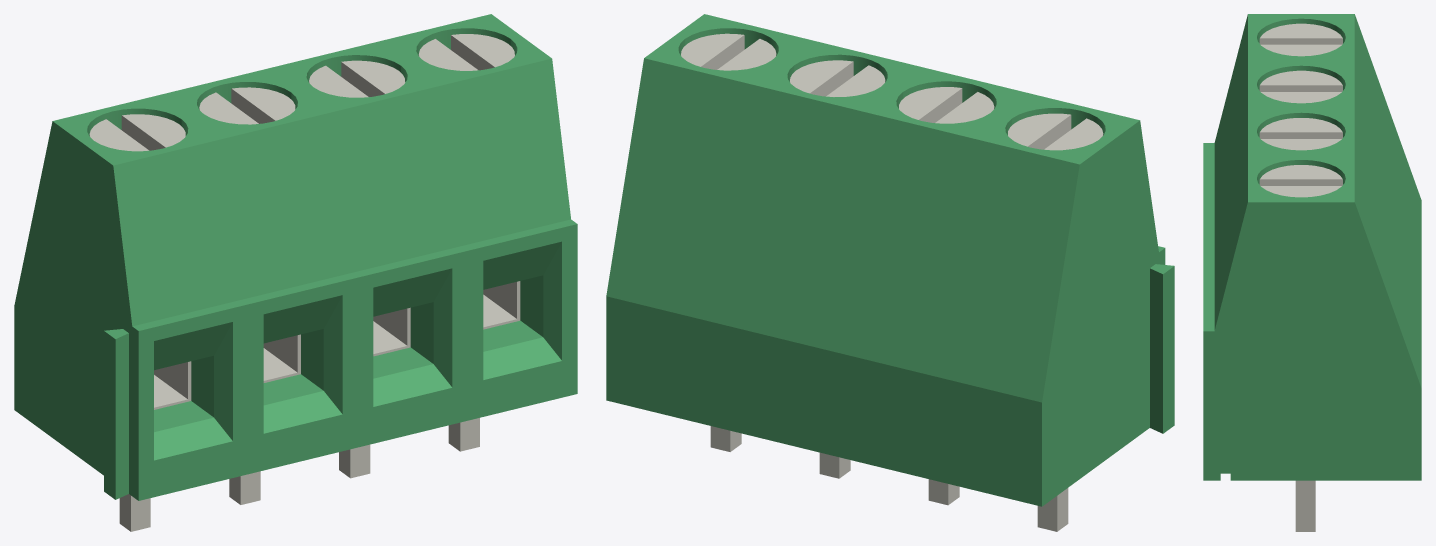
Rendered from kc-terminalblock_phoenix_mkds-1_5-4_1x04_p5.00mm_horizontal.glb.
3 views of the same model, side by side, from view 1: azimuth 30°, elevation 25°; view 2: azimuth 150°, elevation 25°; view 3: azimuth 270°, elevation 25° (orthographic). The views are drawn at different scales.
Parts seen in each view (by area): view 1: 0.08333333333333333_0.4166666666666667_0.16666666666666666_0, 0.6666666666666666_0.6666666666666666_0.5833333333333334_0.8; view 2: 0.08333333333333333_0.4166666666666667_0.16666666666666666_0, 0.6666666666666666_0.6666666666666666_0.5833333333333334_0.8; view 3: 0.08333333333333333_0.4166666666666667_0.16666666666666666_0, 0.6666666666666666_0.6666666666666666_0.5833333333333334_0.8.
Part boxes in pixels (x1,y1,x2,y2): 0.08333333333333333_0.4166666666666667_0.16666666666666666_0: (14, 14, 577, 500); 0.6666666666666666_0.6666666666666666_0.5833333333333334_0.8: (89, 34, 520, 531); 0.08333333333333333_0.4166666666666667_0.16666666666666666_0: (606, 14, 1174, 506); 0.6666666666666666_0.6666666666666666_0.5833333333333334_0.8: (681, 33, 1103, 531); 0.08333333333333333_0.4166666666666667_0.16666666666666666_0: (1203, 14, 1421, 480); 0.6666666666666666_0.6666666666666666_0.5833333333333334_0.8: (1259, 23, 1342, 531).
Size of the model in its own units: 2.07 by 1.73 by 0.9799.
